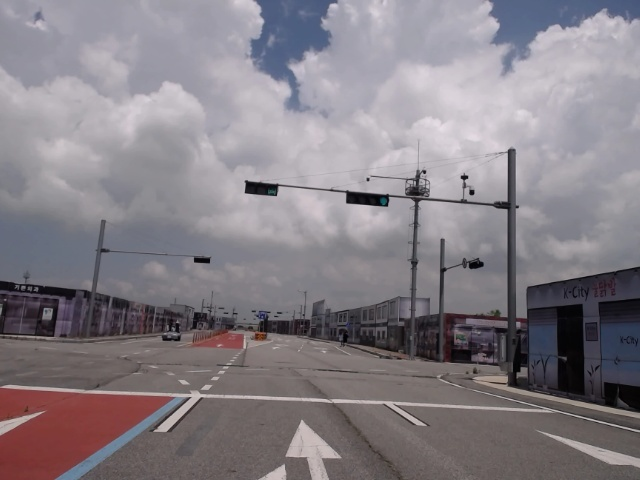straight_green_4: (345, 190, 390, 206)
